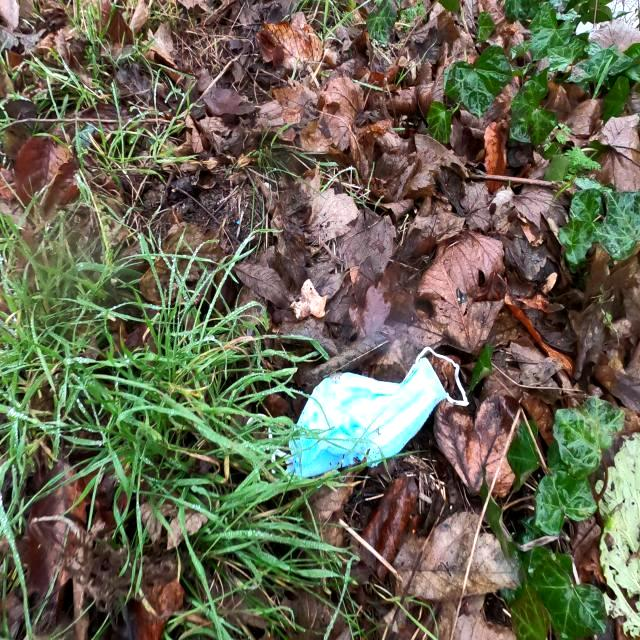Mask: (282, 346, 472, 480)
